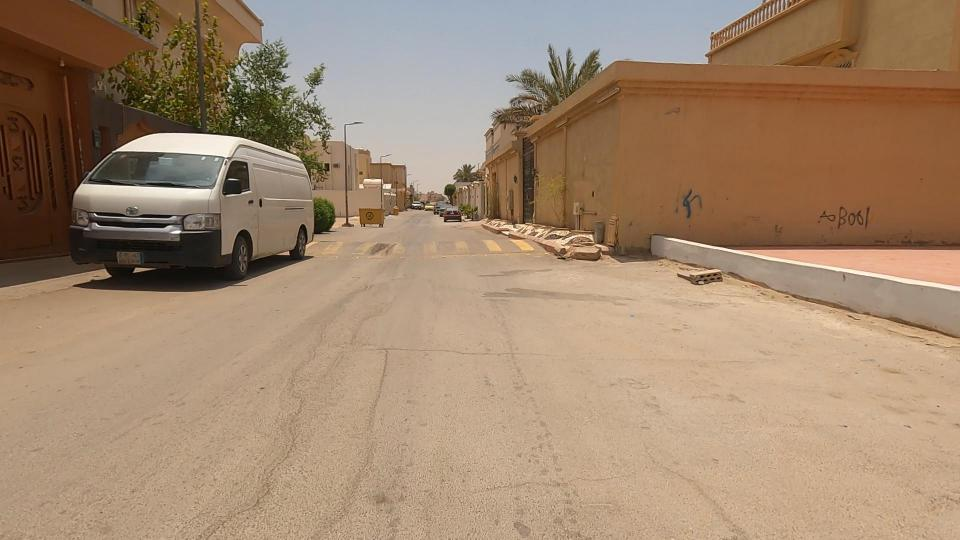GRAFFITI: (759, 178, 928, 256), (645, 167, 748, 238)
